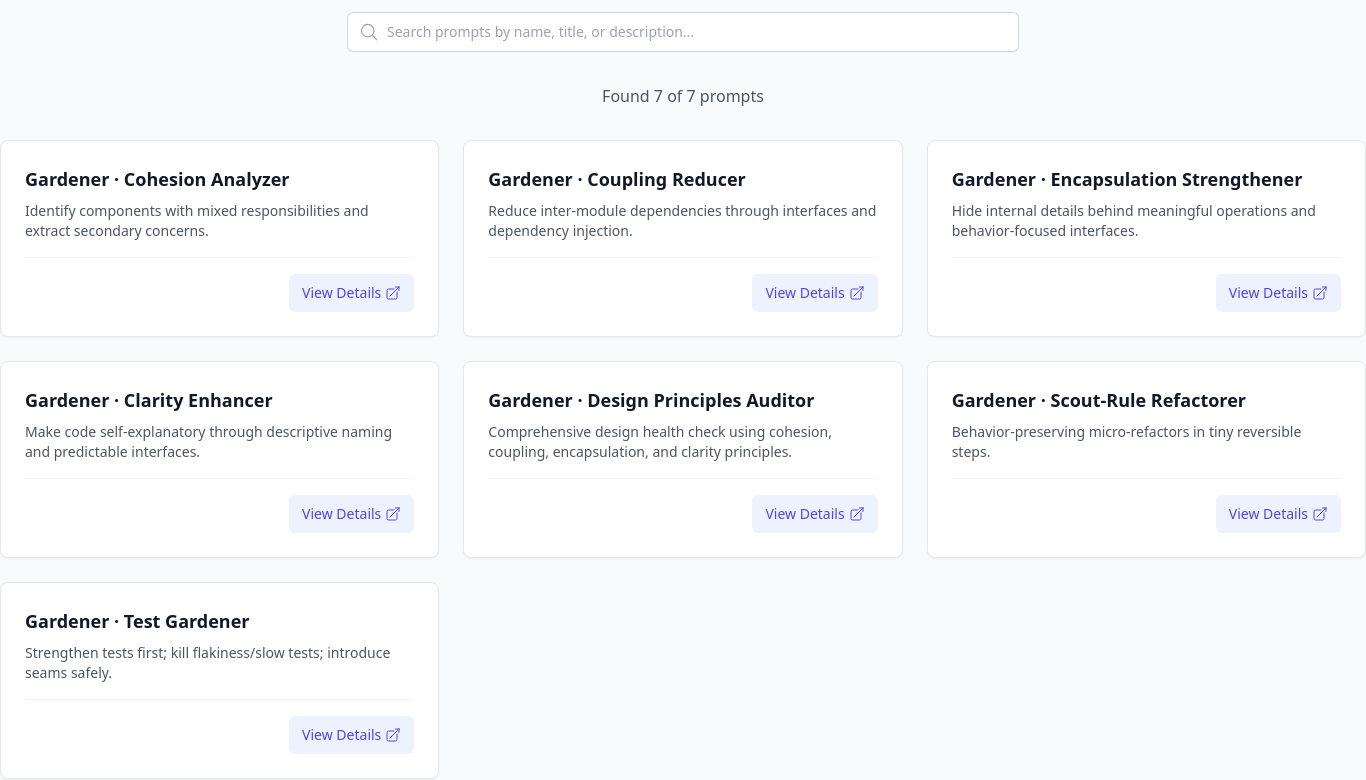
Test case: Design Prompts Search Integration › should show empty state when no design prompts match search
Expected: the text "Found 7 of 7 prompts" is shown, [602,85,764,107]
// Search for something that doesn't exist
Type "nonexistent_pattern" into the field with placeholder "Search prompts by name, title, or description..." at (683, 32), box [347,12,1019,52]
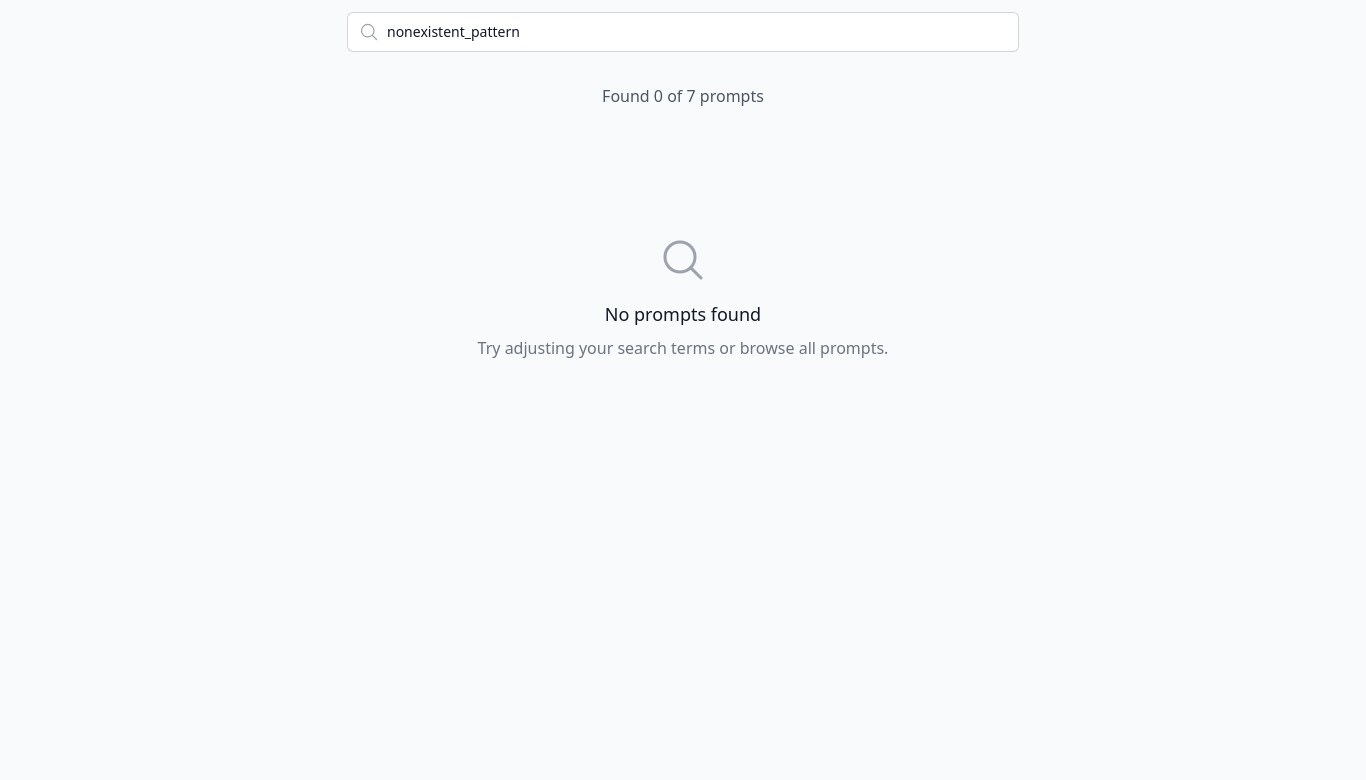
Expected: the text "Found 0 of 7 prompts" is shown, [602,85,764,107]
Expected: the heading "No prompts found" is shown, [605,302,761,326]
Expected: the text "Try adjusting your search terms or browse all prompts." is shown, [478,337,888,359]
